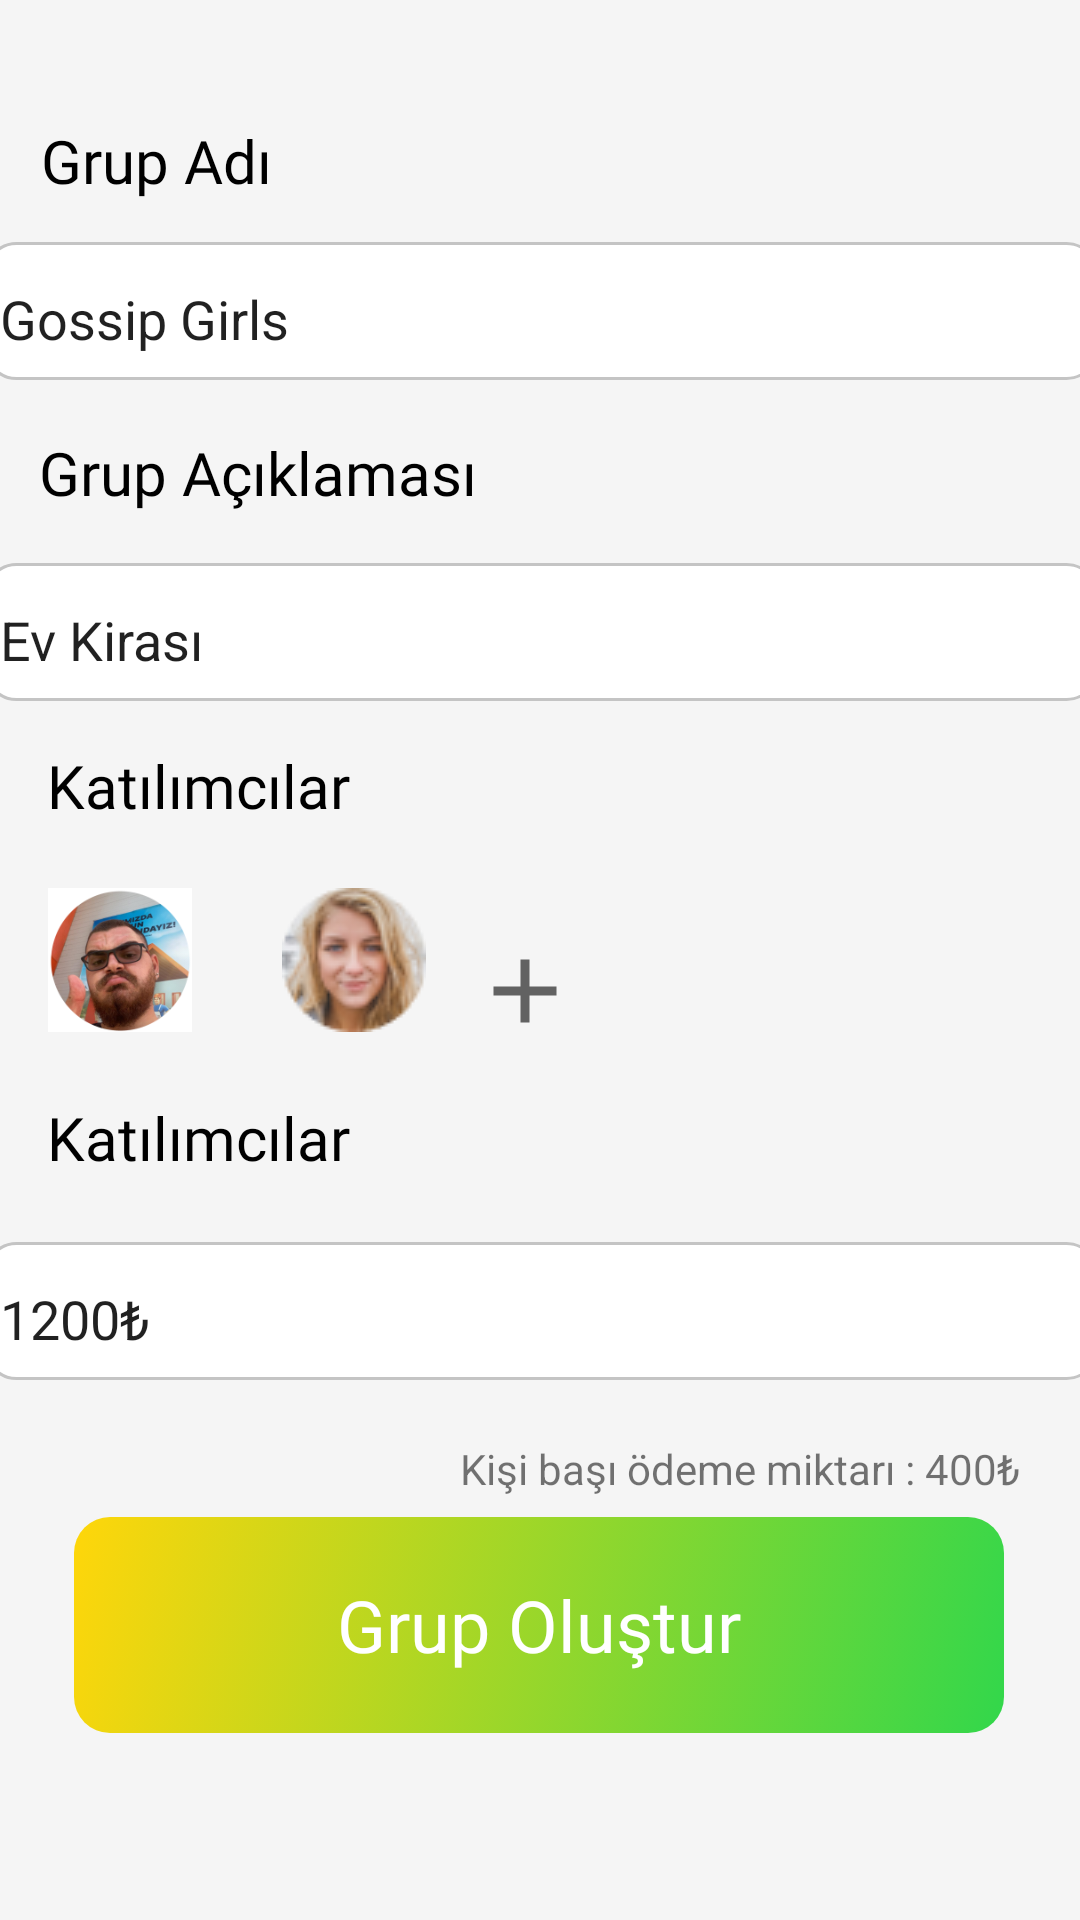

Where to tap for icons on this 1080px×1920px app screen, as (x,y):
add: (525,991)
profilfoto: (119,961)
